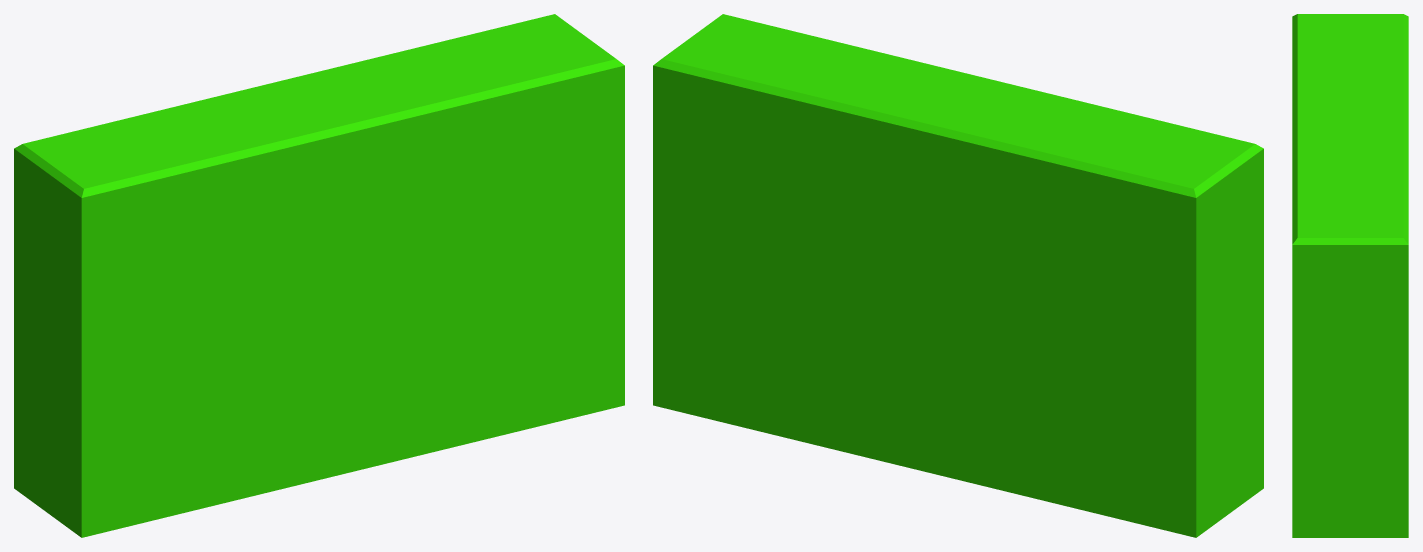
3 renders of one model, left to right at view 1: azimuth 30°, elevation 25°; view 2: azimuth 150°, elevation 25°; view 3: azimuth 270°, elevation 25°, orthographic. The views are drawn at different scales.
Visible parts, largest first — view 1: basic_5x3; view 2: basic_5x3; view 3: basic_5x3.
Boxes of the visible parts, x1,y1,x2,y2 form: basic_5x3: (14, 14, 624, 537); basic_5x3: (653, 14, 1263, 537); basic_5x3: (1292, 14, 1408, 537).
Size of the model in its own units: 5.1 by 3.1 by 1.1.
